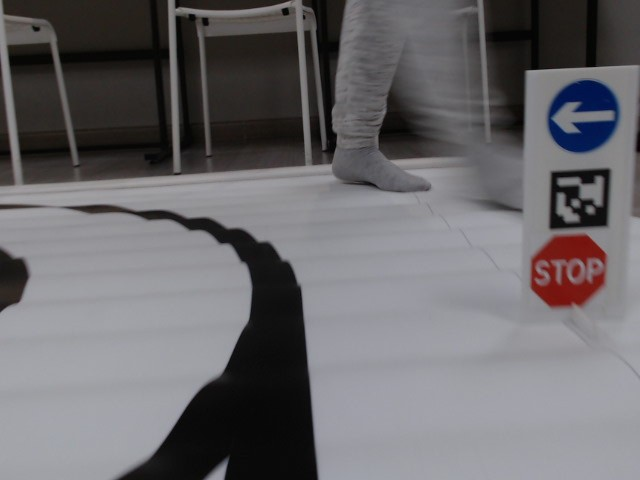Stop: (528, 234, 611, 307)
